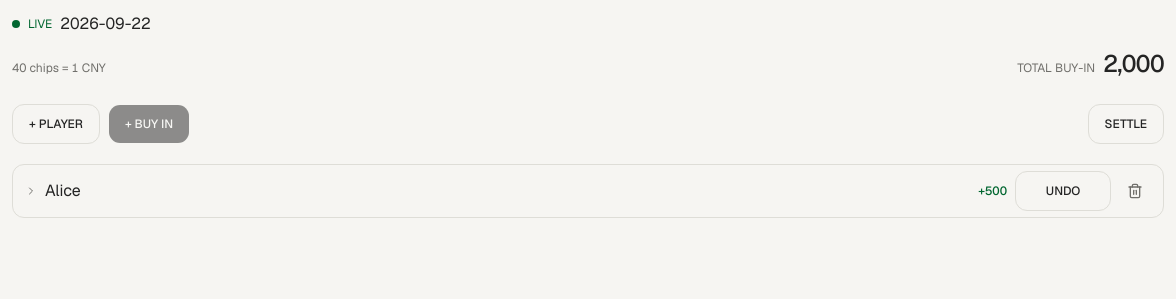
Test case: hides the cashed-out summary while retaining participant results and expanded details
This screenshot has width=1176, height=299.
Check: the text "CASHED OUT" is not shown
Check: the text "+500" is shown, box x1=978 y1=183 x2=1007 y2=199
Click the button with aria-label "Alice buy-in history" at (63, 190), box x1=25 y1=171 x2=1007 y2=211
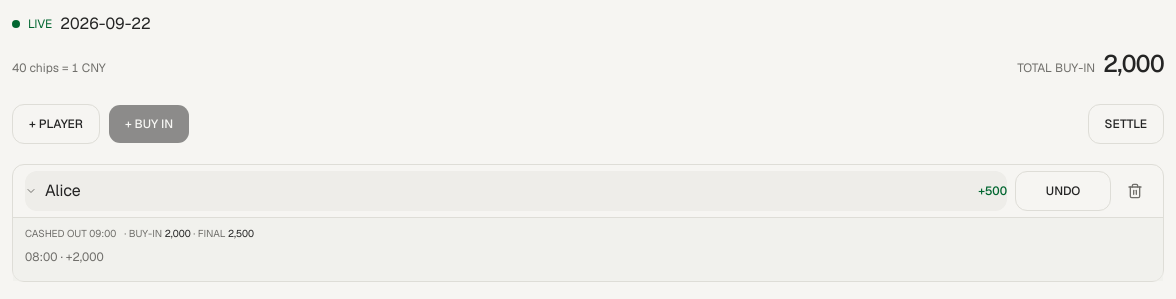
Check: the text "CASHED OUT 09:00" is shown, box x1=25 y1=226 x2=116 y2=241
Check: the text "· BUY-IN 2,000 · FINAL 2,500" is shown, box x1=124 y1=226 x2=254 y2=241
